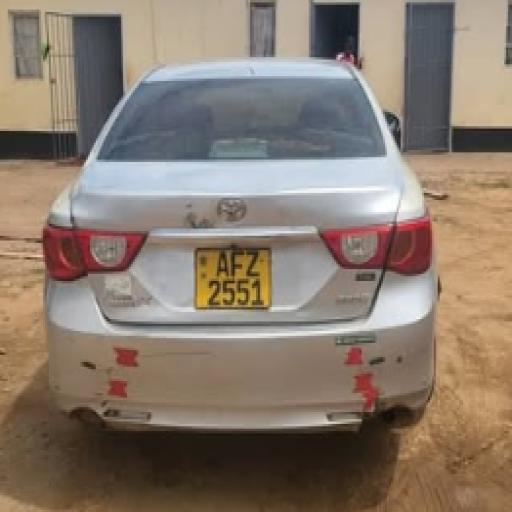number-plates: (197, 246, 269, 307)
